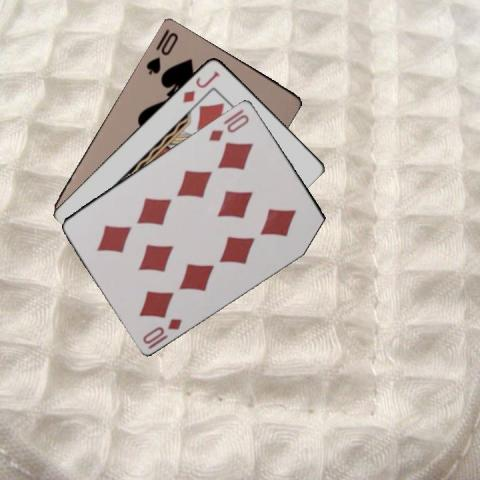10d: (139, 315, 184, 350), (205, 110, 251, 142)
10s: (143, 29, 180, 75)
Jd: (180, 67, 222, 104)
